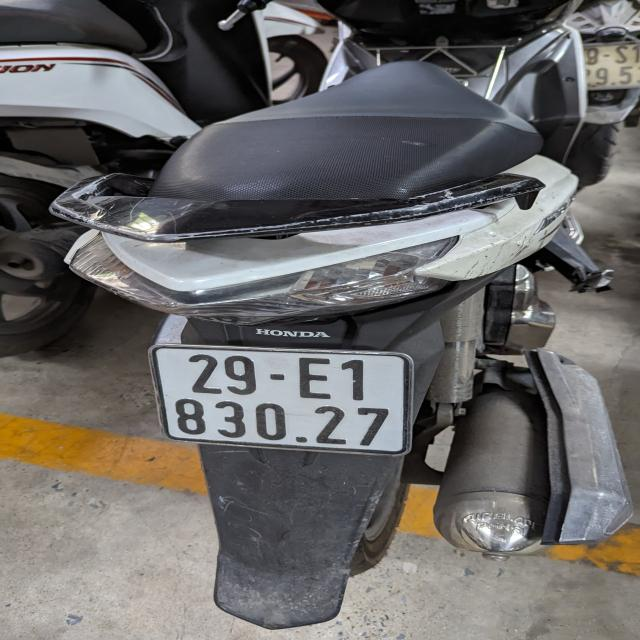License: (147, 343, 413, 456)
